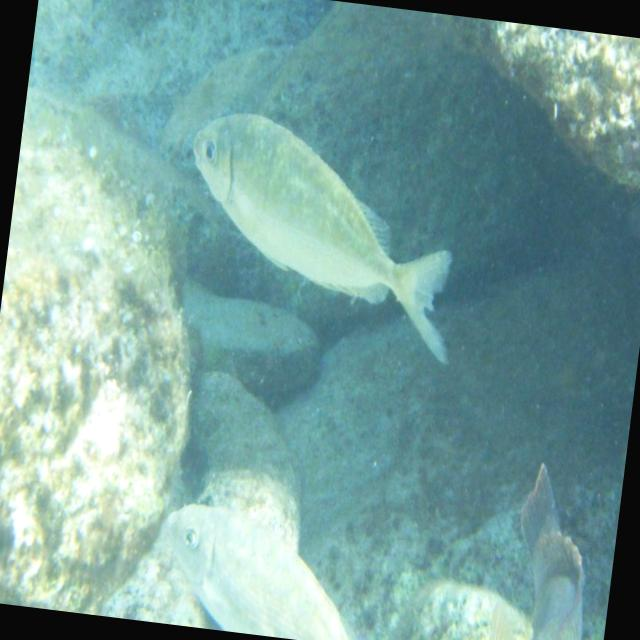Sokar Baligi: (159, 91, 484, 378)
